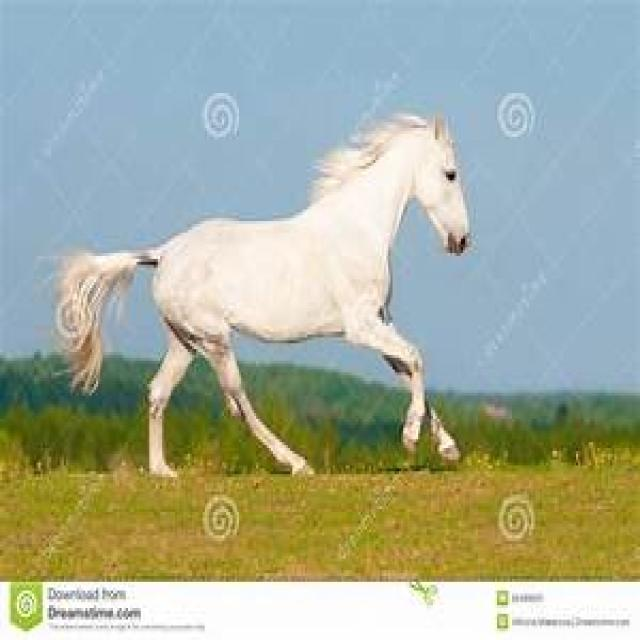horse: (38, 111, 471, 477)
